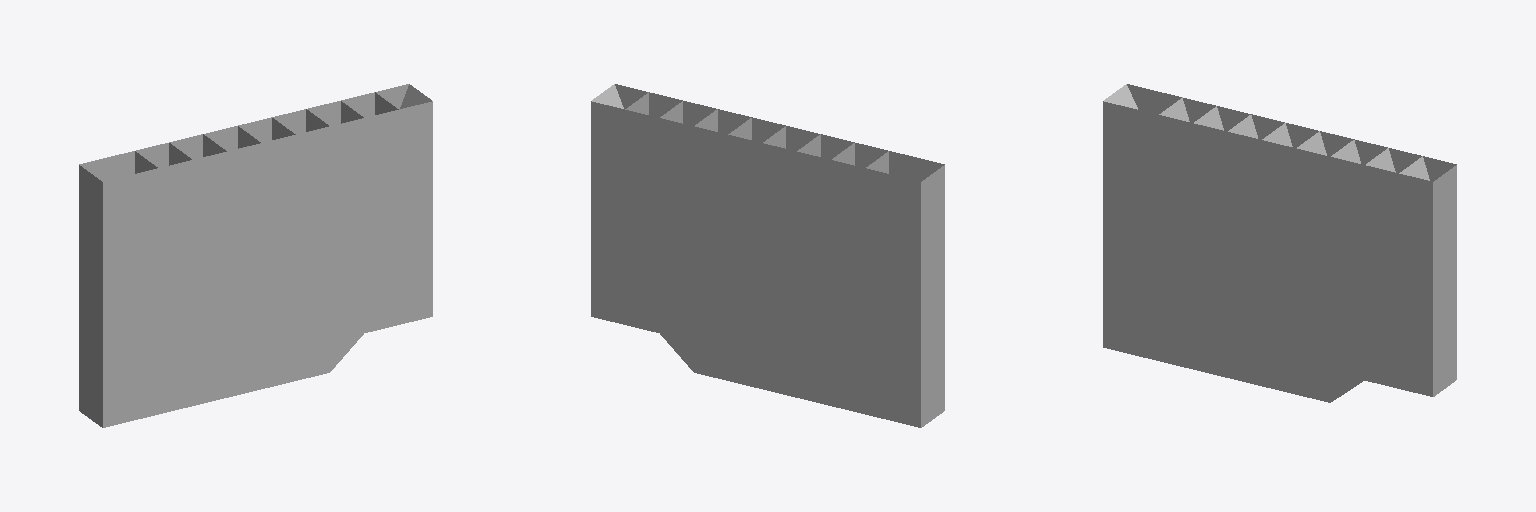
The model's file is 3d_Kalidar-Pond 08.wlw.obj.
The picture shows the model from 3 angles: view 1: azimuth 30°, elevation 25°; view 2: azimuth 150°, elevation 25°; view 3: azimuth 330°, elevation 25°; orthographic projection.
Size of the model in its own units: 80.25 by 57.16 by 10.